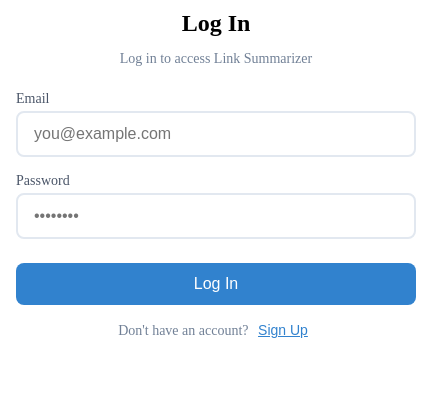
LoginForm › shows error on signup with duplicate email
Click the button "Sign Up". click: {"x": 283, "y": 330}
box: [252, 321, 314, 339]
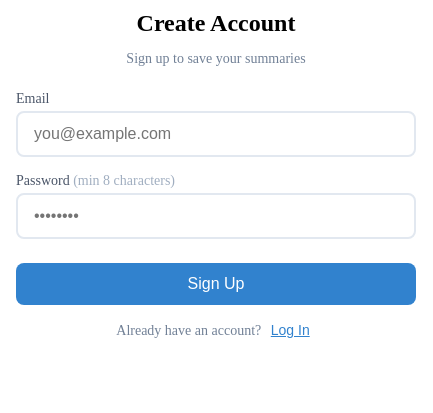
Type "existing@example.com" into the field labelled "Email". click: {"x": 216, "y": 134}
box: [16, 111, 416, 157]
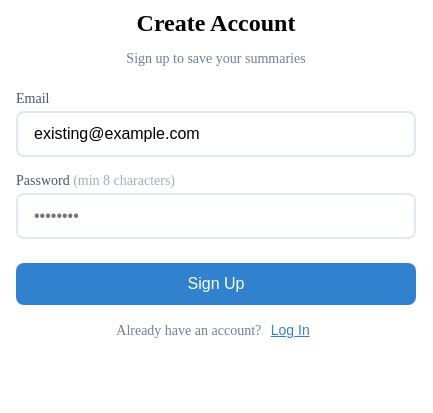
Type "password123" into the password field labelled "Password (min 8 characters)". click: {"x": 216, "y": 216}
box: [16, 193, 416, 239]
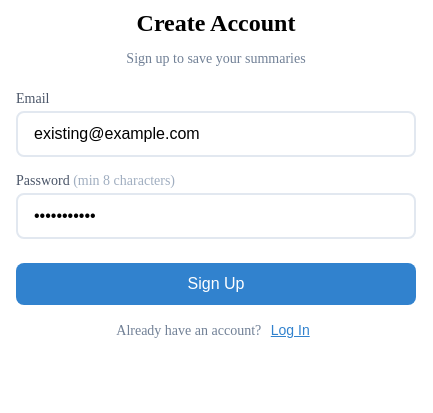
Click the button "Sign Up". click: {"x": 216, "y": 284}
box: [16, 263, 416, 305]
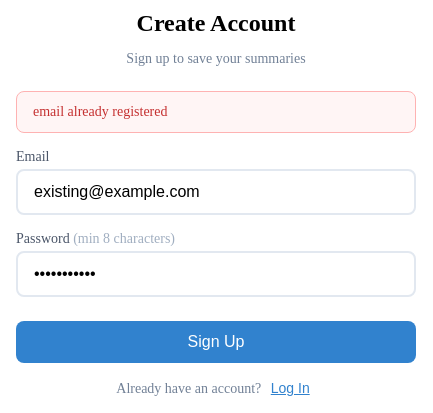
expect the message reads "email already registered": met, box [33, 104, 168, 119]
